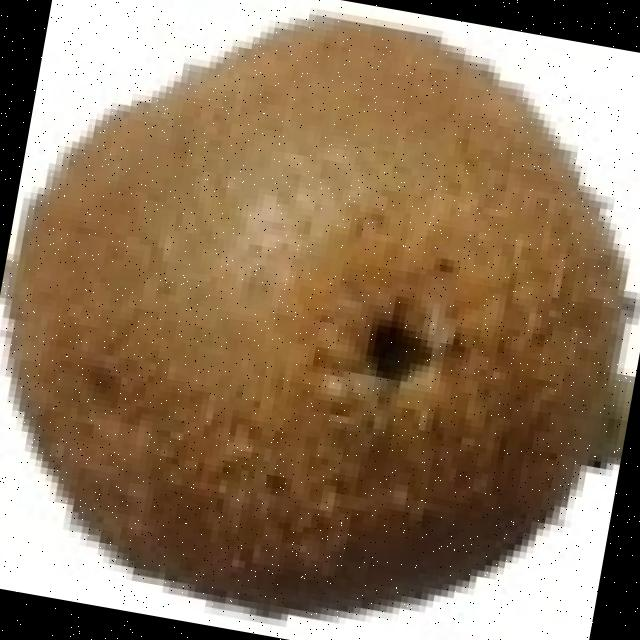kiwi: (15, 15, 634, 608)
